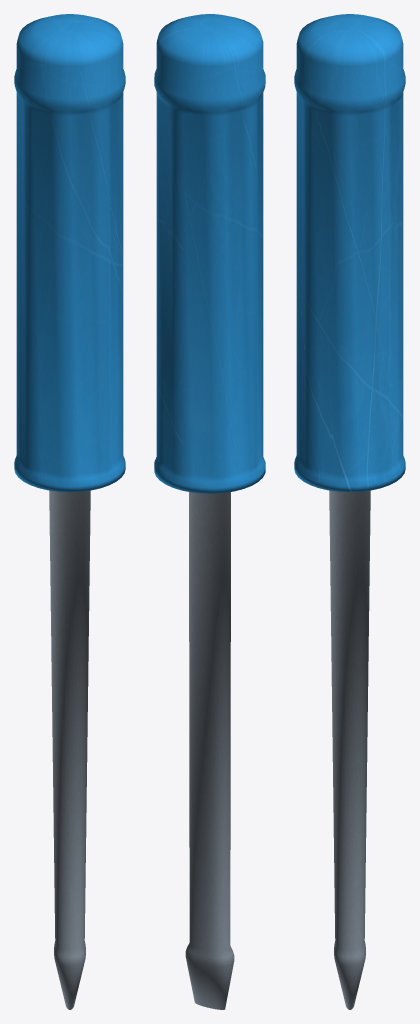
The model's file is Screwdriver.glb.
3 renders of one model, left to right at view 1: azimuth 90°, elevation 25°; view 2: azimuth 150°, elevation 25°; view 3: azimuth 270°, elevation 25°, orthographic.
Parts seen in each view (by area): view 1: Screwdriver; view 2: Screwdriver; view 3: Screwdriver.
Boxes of the visible parts, bbox=[...] form: Screwdriver: bbox=[14, 14, 125, 1009]; Screwdriver: bbox=[154, 14, 265, 1009]; Screwdriver: bbox=[294, 14, 405, 1009].
Size of the model in its own units: 0.209 by 2.02 by 0.209.
2 materials, 2 textured.
